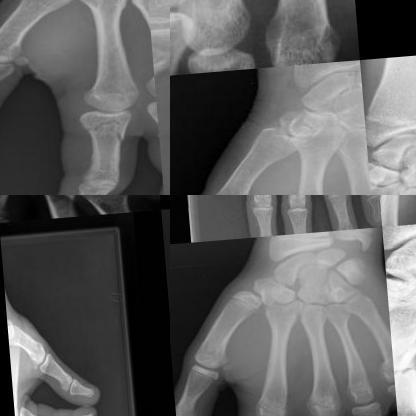fracture: (78, 118, 132, 152), (386, 353, 415, 394), (149, 31, 169, 90), (371, 347, 387, 379)
